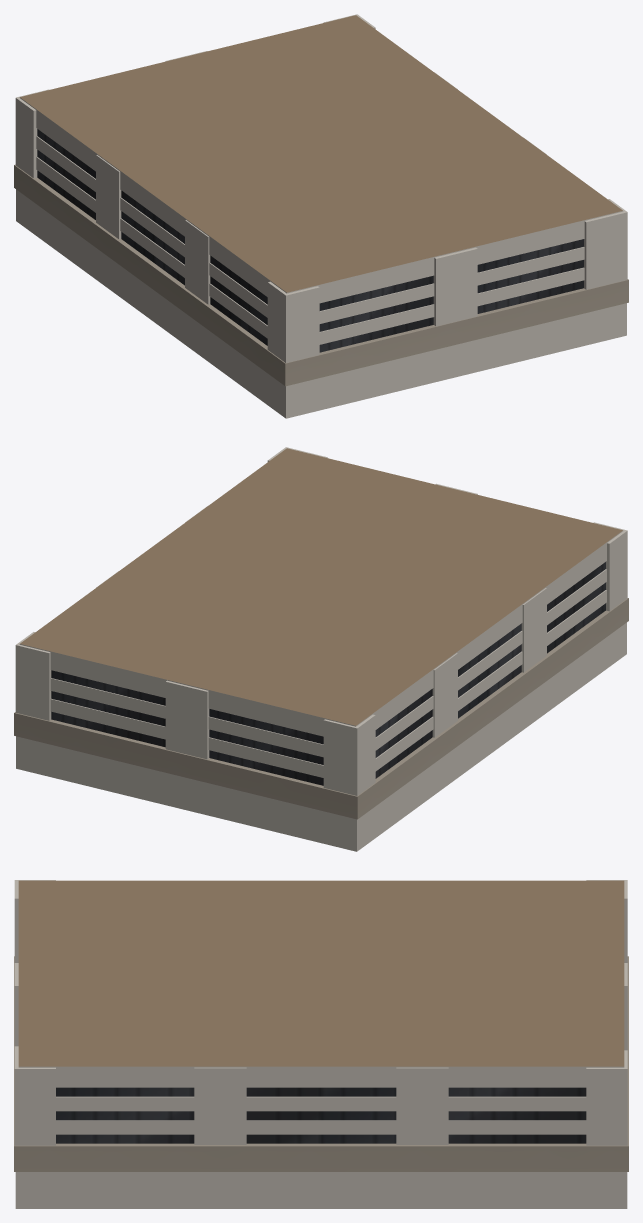
The model's file is Bld_Building_C_low.fbx.
3 renders of one model, top to bottom at view 1: azimuth 30°, elevation 25°; view 2: azimuth 150°, elevation 25°; view 3: azimuth 270°, elevation 25°, orthographic. The views are drawn at different scales.
Parts seen in each view (by area): view 1: Bld_Building_C_low; view 2: Bld_Building_C_low; view 3: Bld_Building_C_low.
Part boxes in pixels (x1,y1,x2,y2): Bld_Building_C_low: (14,14,628,418); Bld_Building_C_low: (14,447,628,851); Bld_Building_C_low: (14,880,628,1208).
Size of the model in its own units: 4335 by 1500 by 5932.
